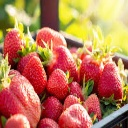strawberry: (1, 61, 42, 128), (45, 42, 79, 85), (96, 62, 123, 108)
